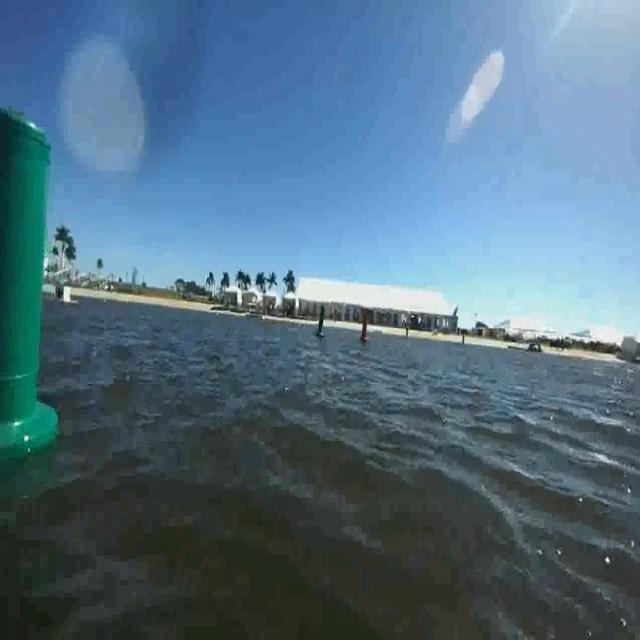green-column-buoy: (0, 98, 60, 466), (315, 302, 327, 338)
red-column-buoy: (360, 312, 370, 342)
